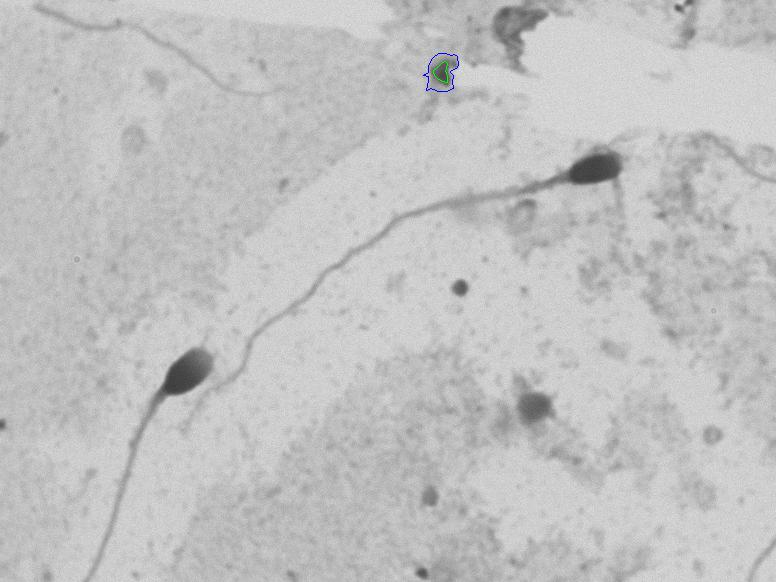Abnormal: (239, 138, 674, 350)
Normal: (75, 320, 218, 573)
